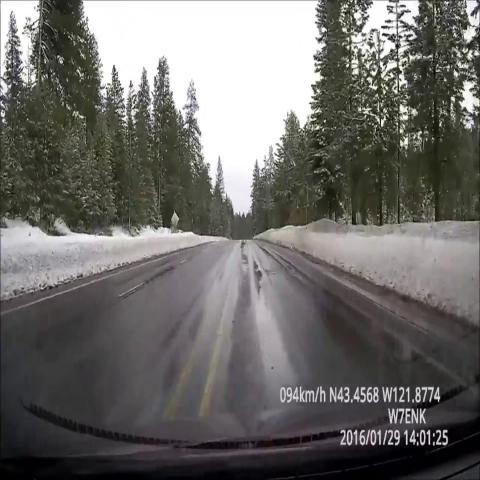pothole: (248, 249, 268, 303), (238, 226, 250, 267)
